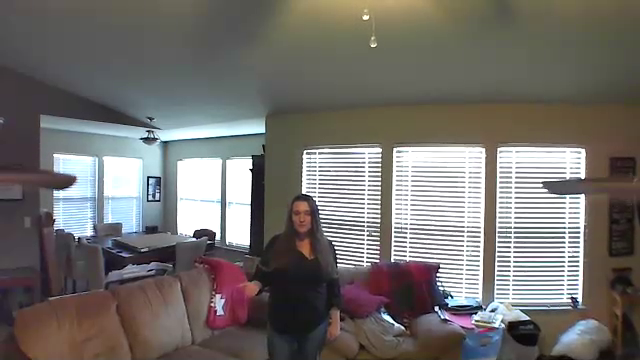land: (233, 277, 266, 301)
